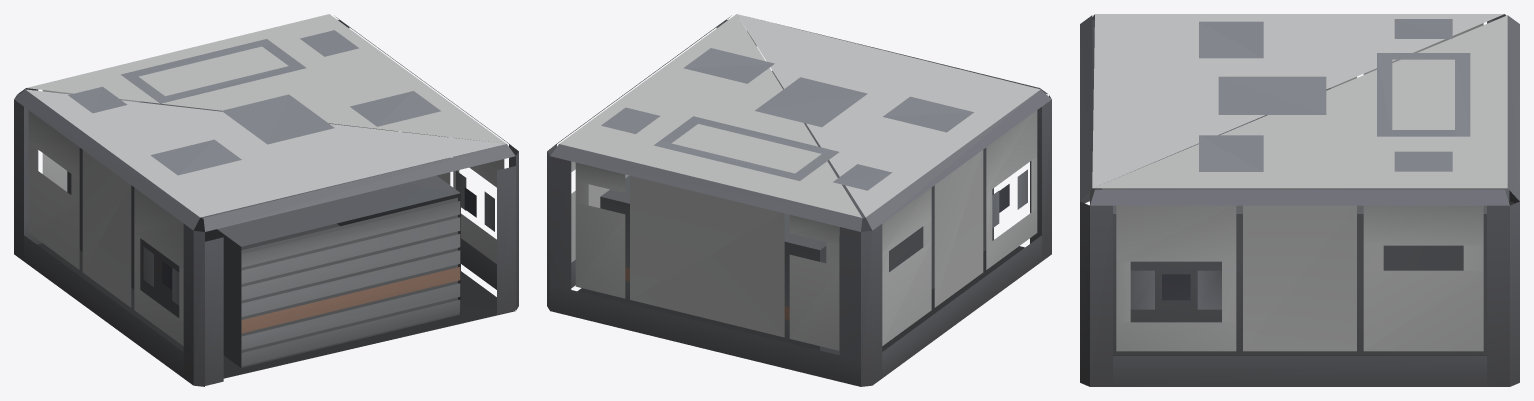
The model's file is garage.lod.glb.
3 views of the same model, side by side, from view 1: azimuth 30°, elevation 25°; view 2: azimuth 150°, elevation 25°; view 3: azimuth 270°, elevation 25° (orthographic). The views are drawn at different scales.
Visible parts, largest first — view 1: garage; view 2: garage; view 3: garage.
Part boxes in pixels (left/top/right/bottom): garage: left=14, top=14, right=518, bottom=386; garage: left=547, top=14, right=1051, bottom=386; garage: left=1080, top=14, right=1519, bottom=386.
Size of the model in its own units: 11.2 by 5.6 by 11.2.
